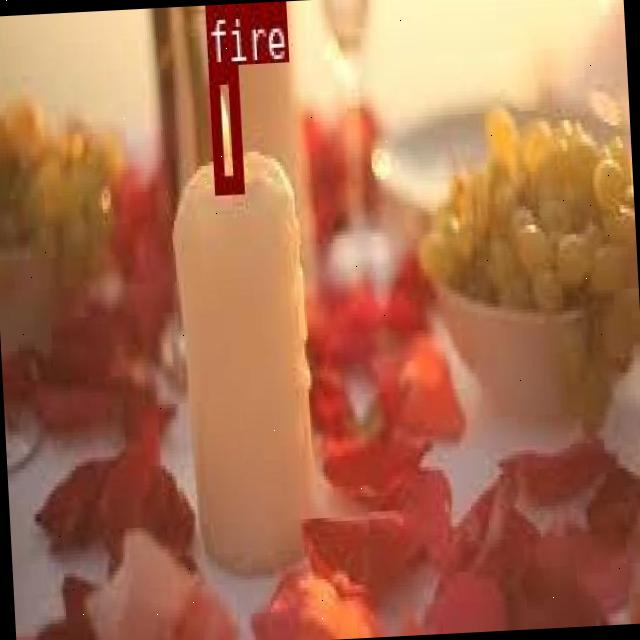fire: (208, 65, 242, 190)
